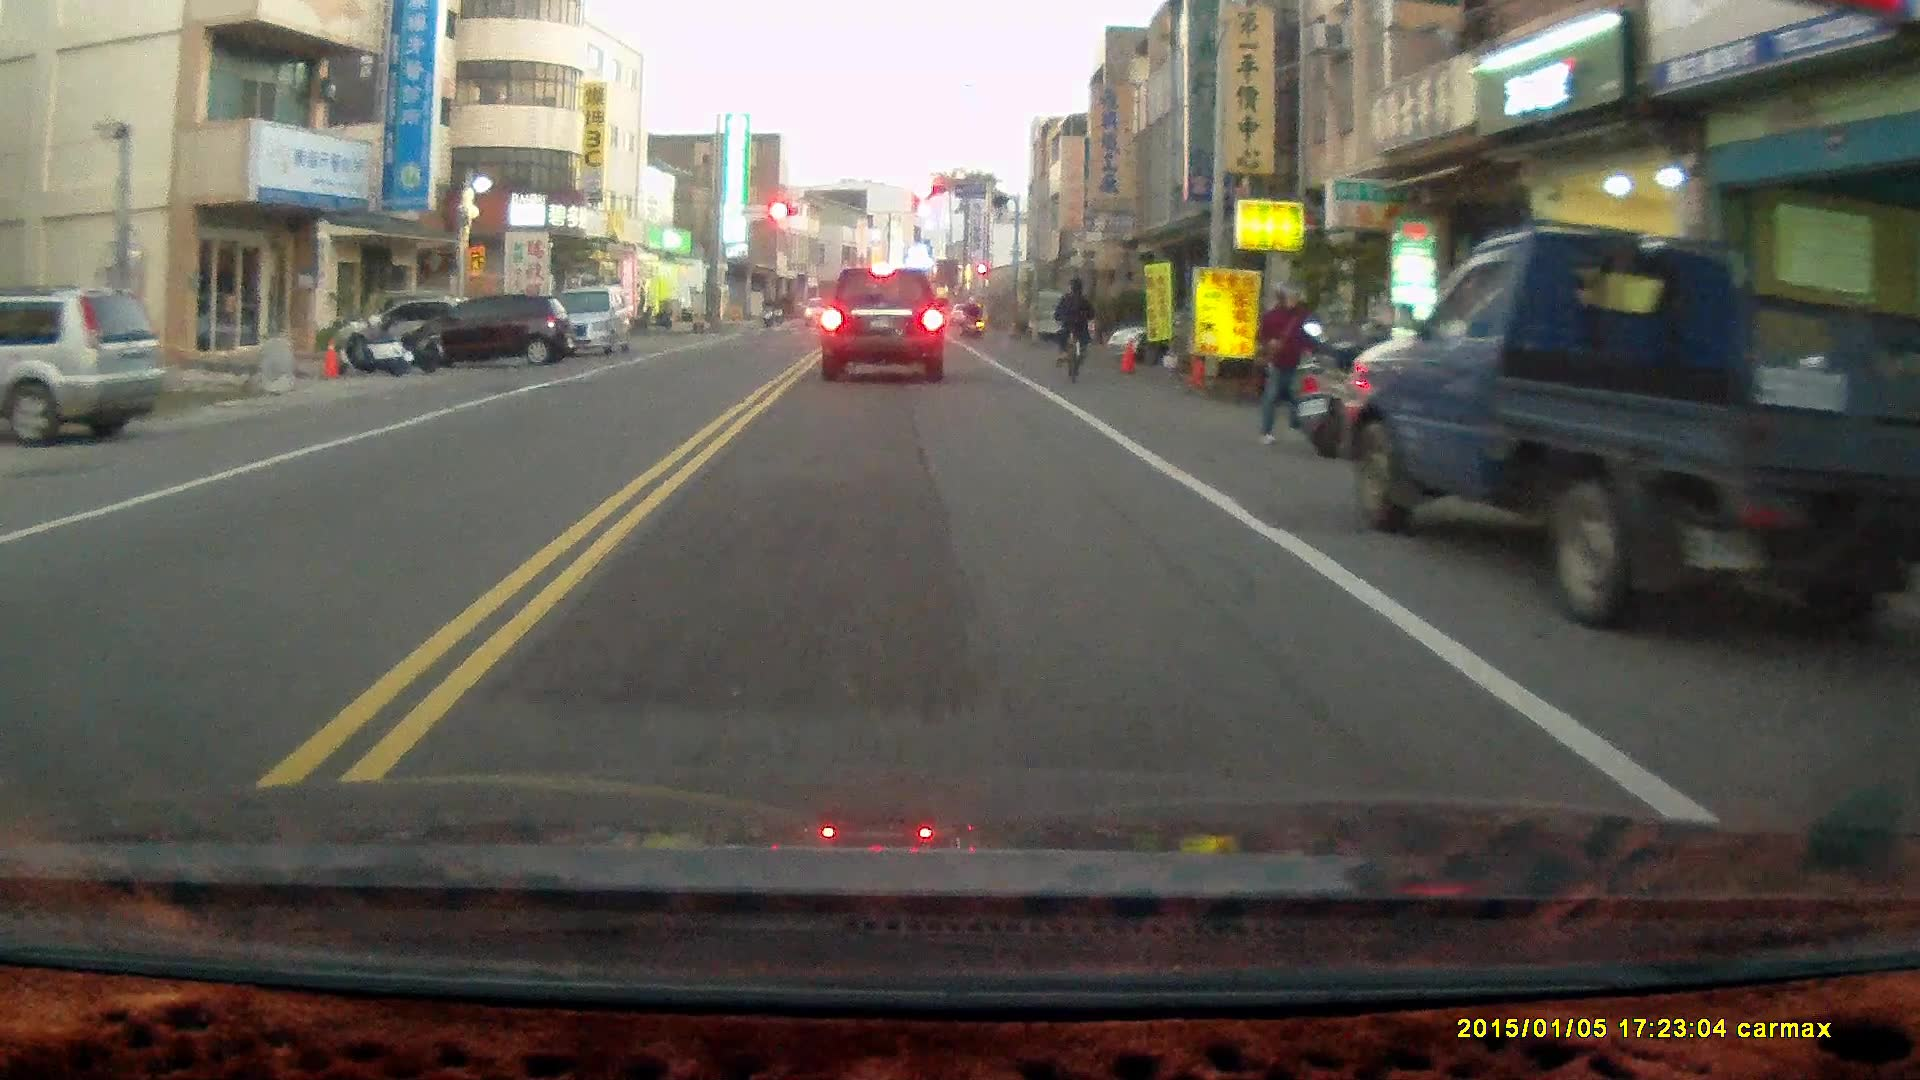pedestrian: (1255, 278, 1311, 446)
rider: (1053, 273, 1094, 384)
vehicle: (1336, 214, 1920, 632), (1, 284, 167, 446), (818, 265, 947, 386), (414, 295, 574, 367), (517, 283, 642, 360)
